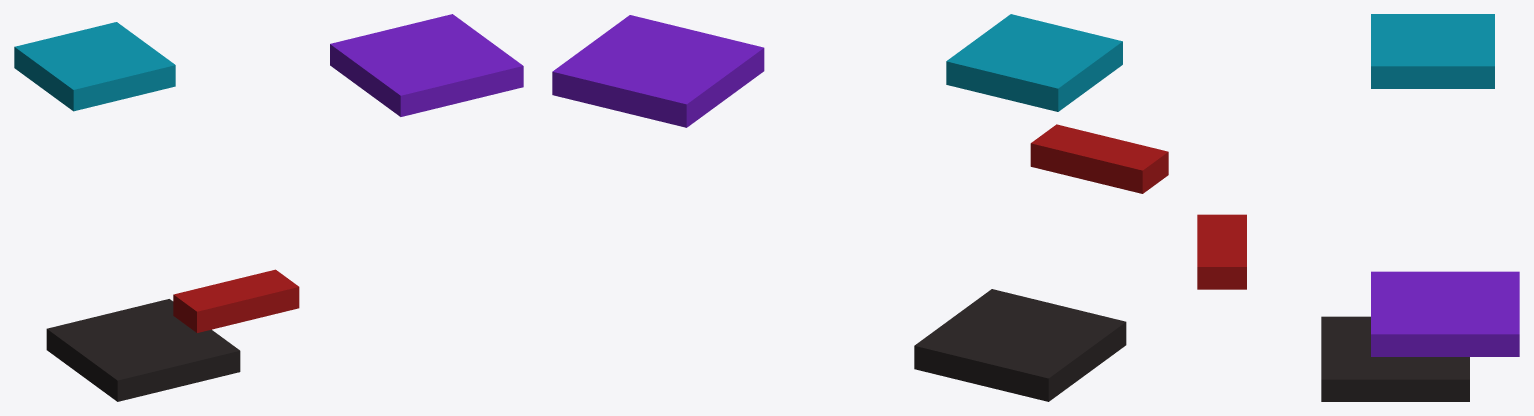
File: ZiplineMap.obj
3 renders of one model, left to right at view 1: azimuth 30°, elevation 25°; view 2: azimuth 150°, elevation 25°; view 3: azimuth 270°, elevation 25°, orthographic. The views are drawn at different scales.
Parts seen in each view (by area): view 1: Map; view 2: Map; view 3: Map.
Boxes of the visible parts, box(x1,y1,x2,y2) form: Map: box(14, 14, 523, 401); Map: box(552, 14, 1168, 401); Map: box(1197, 14, 1519, 401).
Size of the model in its own units: 1.38 by 0.875 by 0.8125.
1 material, 1 textured.
